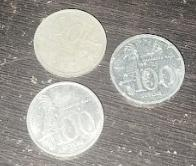coin_100_e1999: (26, 80, 107, 161), (110, 32, 187, 108), (28, 6, 108, 79)
